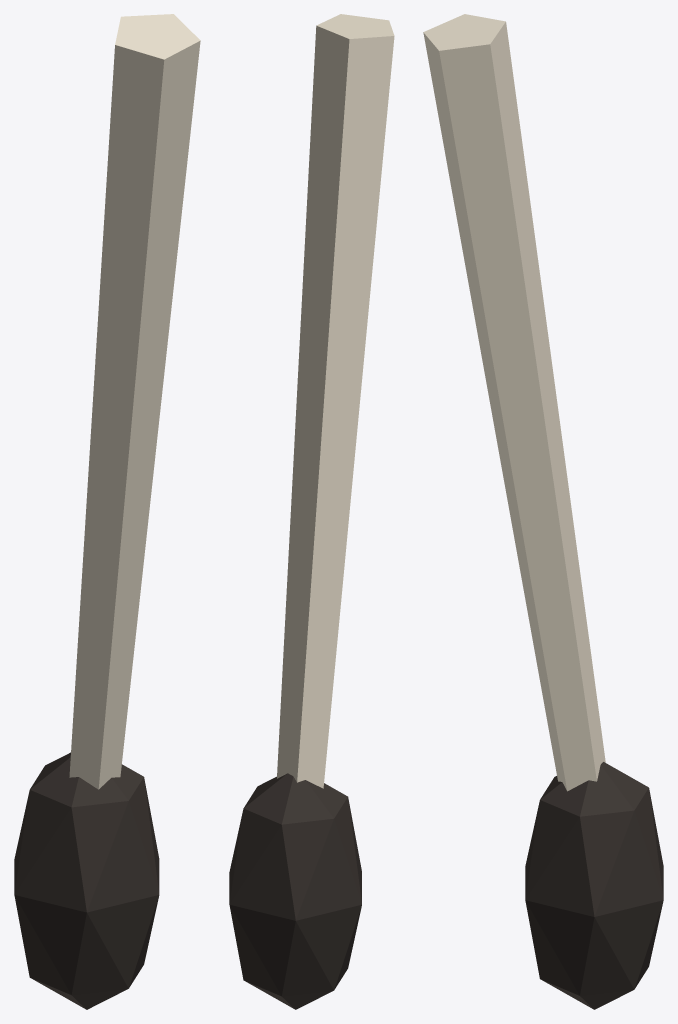
Rendered from calf_0_tail.glb.
The picture shows the model from 3 angles, left to right: view 1: azimuth 30°, elevation 25°; view 2: azimuth 150°, elevation 25°; view 3: azimuth 270°, elevation 25°; orthographic projection. The views are drawn at different scales.
Visible parts, largest first — view 1: calf_0_tail; view 2: calf_0_tail; view 3: calf_0_tail.
Boxes of the visible parts, bbox=[...] form: calf_0_tail: bbox=[14, 14, 200, 1009]; calf_0_tail: bbox=[229, 14, 394, 1009]; calf_0_tail: bbox=[423, 14, 663, 1009].
Bounding box in the file's own units: 0.0512 × 0.3475 × 0.077.
